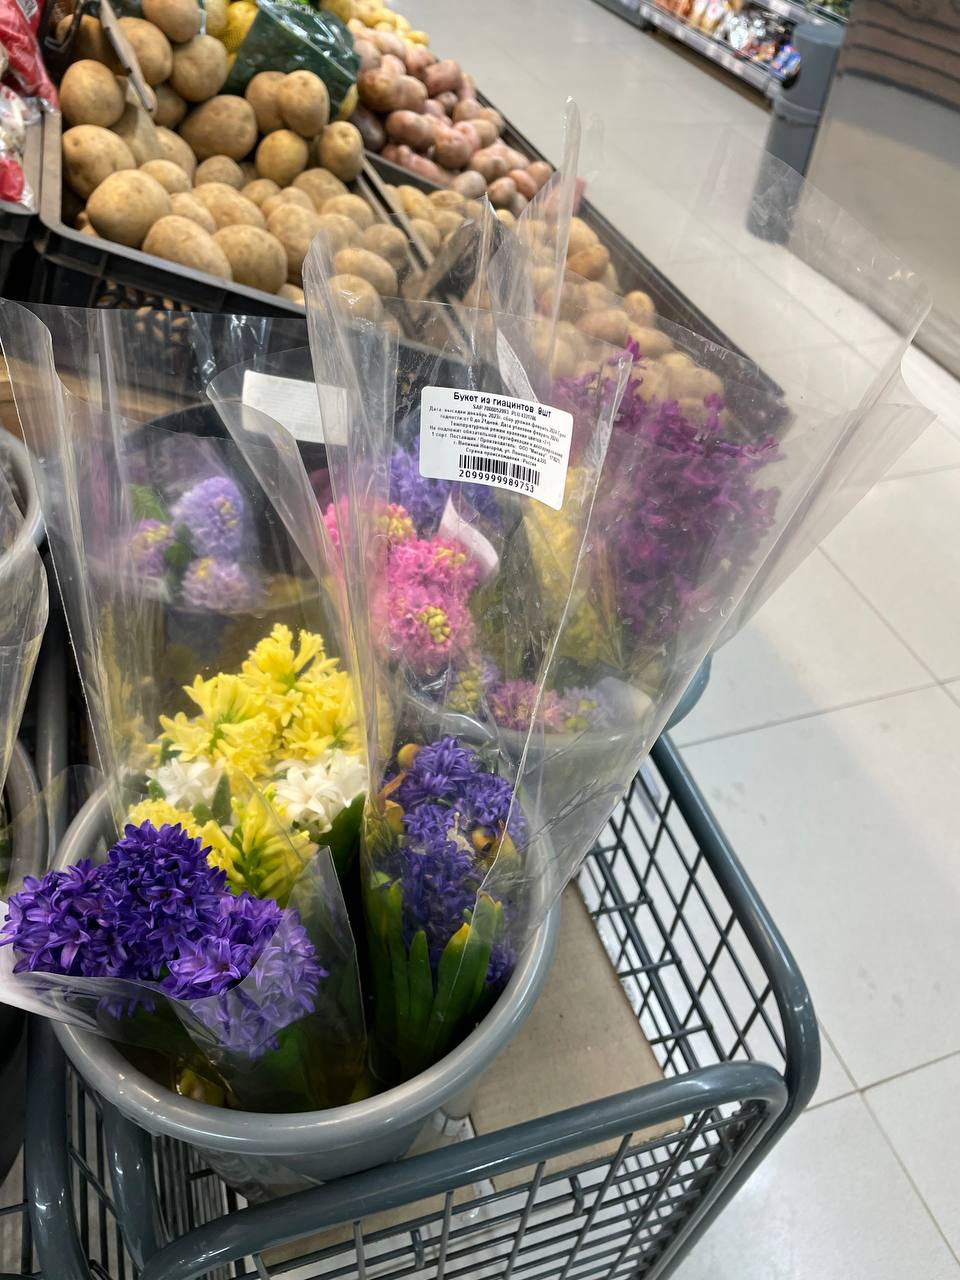1d: (458, 452, 542, 486)
